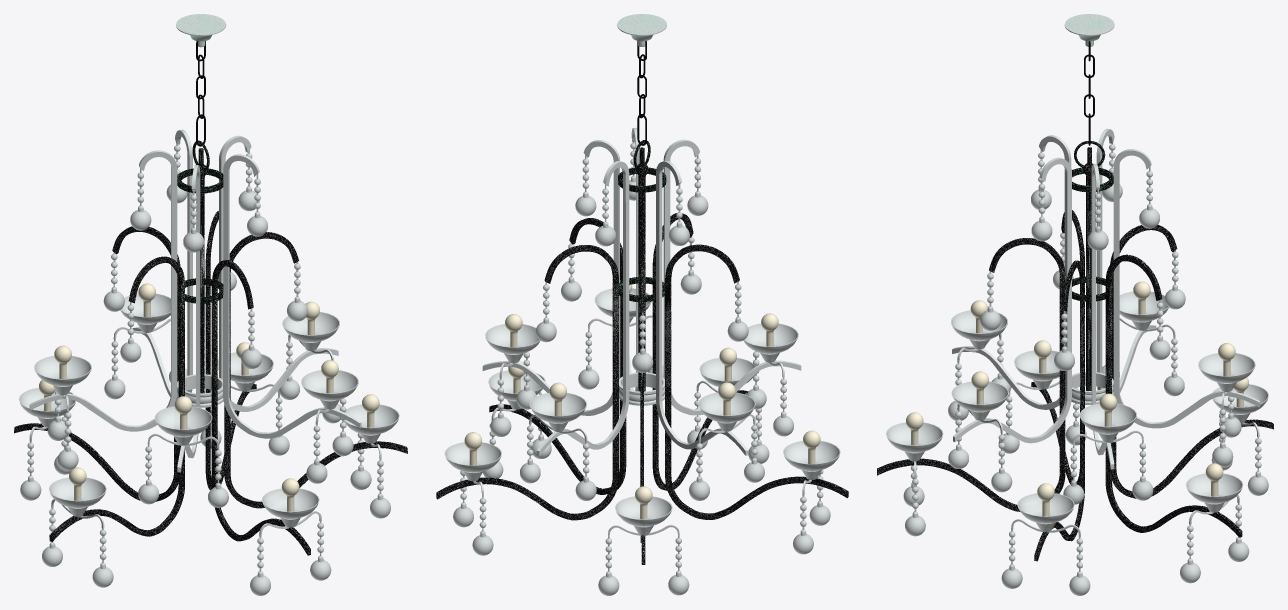
3 renders of one model, left to right at view 1: azimuth 30°, elevation 25°; view 2: azimuth 150°, elevation 25°; view 3: azimuth 270°, elevation 25°, orthographic.
Parts seen in each view (by area): view 1: group_2 (×5), group_9 (×5), group_4 (×10), group_17, group_13, group_11; view 2: group_2 (×5), group_9 (×5), group_4 (×9), group_17, group_13, group_11; view 3: group_2 (×5), group_9 (×5), group_4 (×9), group_17, group_13, group_11.
Boxes of the visible parts, x1,y1,x2,y2 form: group_2 (×5): [14, 211, 407, 555]; group_9 (×5): [29, 129, 361, 472]; group_4 (×10): [20, 294, 398, 511]; group_17: [198, 148, 207, 393]; group_13: [176, 14, 226, 35]; group_11: [177, 374, 222, 403]; group_2 (×5): [436, 213, 848, 564]; group_9 (×5): [482, 127, 801, 456]; group_4 (×9): [445, 324, 839, 519]; group_17: [635, 147, 648, 391]; group_13: [617, 14, 666, 35]; group_11: [619, 372, 664, 401]; group_2 (×5): [877, 210, 1273, 561]; group_9 (×5): [952, 128, 1259, 469]; group_4 (×9): [887, 292, 1254, 516]; group_17: [1083, 147, 1092, 390]; group_13: [1064, 14, 1114, 35]; group_11: [1072, 372, 1113, 401].
Bounding box in the file's own units: 28.12 × 27.12 × 37.36.
